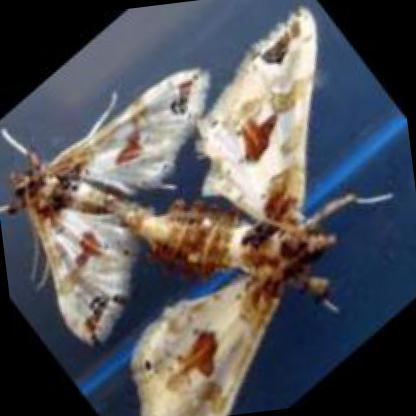leucinodes: (137, 9, 337, 416), (14, 69, 214, 346)
